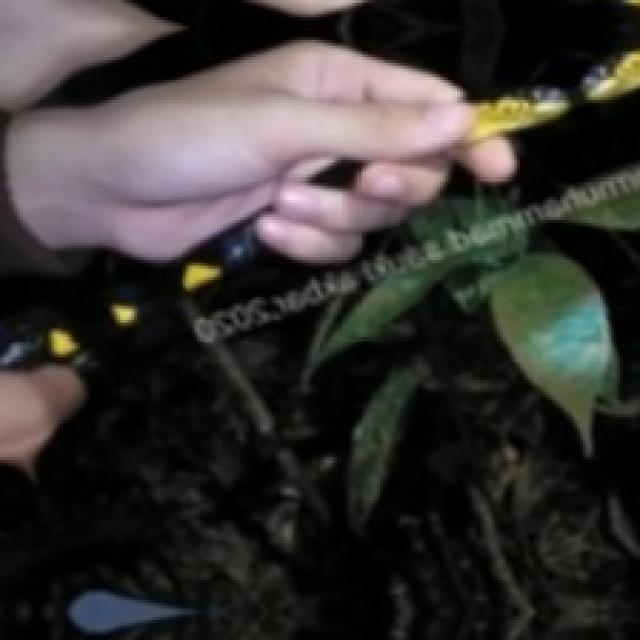mangrove cat snake: (0, 224, 300, 369), (470, 47, 640, 139), (311, 160, 362, 188)
